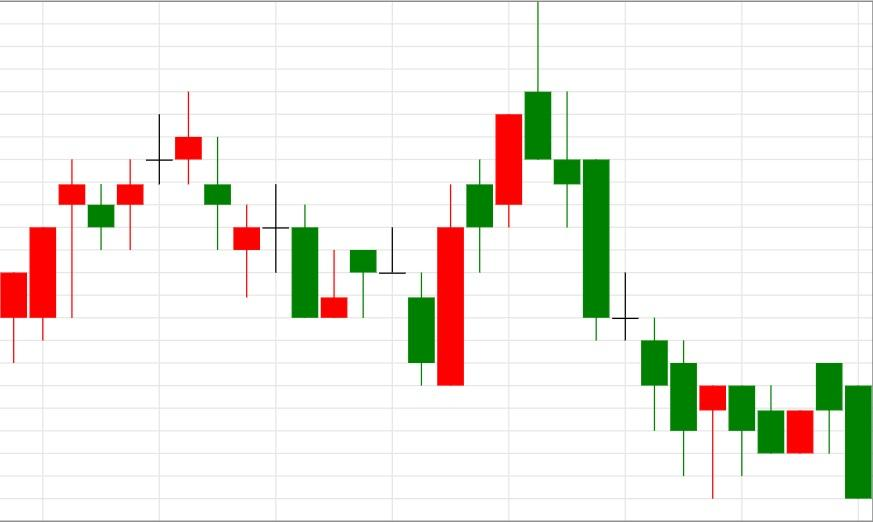bullish_engulfing_rise: (350, 182, 465, 387)
inverse_hammer_rise: (261, 182, 349, 320)
